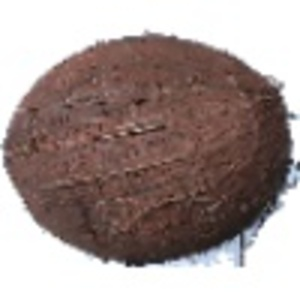coco: (1, 33, 300, 269)
